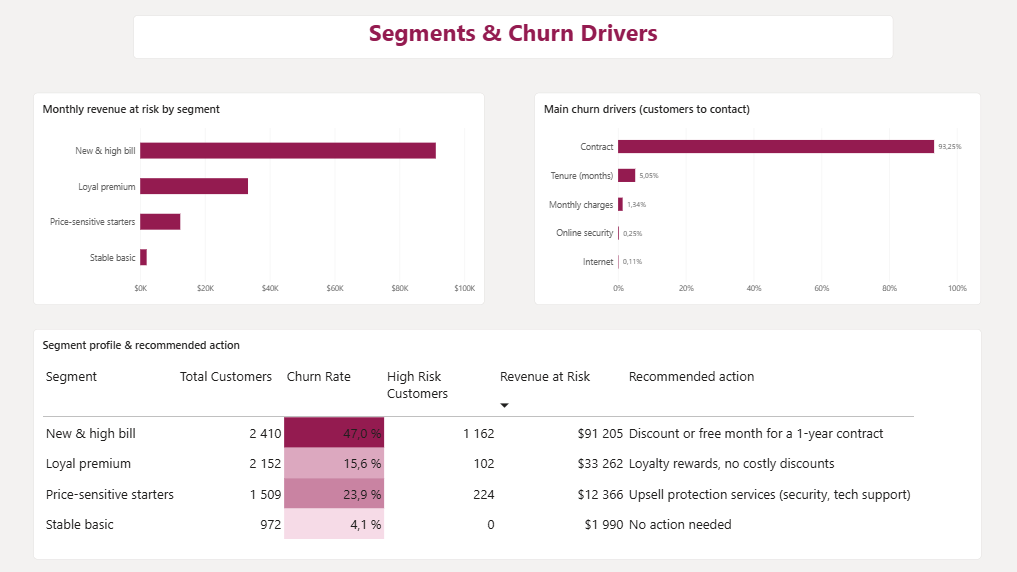

The page's visual inventory and layout, read from the dashboard file:
{"tool":"powerbi","page":{"name":"Segments & drivers","canvas":[1920,1080],"ordinal":1},"visuals":[{"type":"textbox","box":[259.8,40,1398.7,79.9],"z":0},{"type":"clusteredBarChart","title":"Monthly revenue at risk by segment","fields":{"Category":["Dim Segment.Segment"],"Y":["_Measures.Revenue at Risk"]},"box":[75.5,182.1,830.3,390.8],"z":1000},{"type":"tableEx","title":"Segment profile & recommended action","fields":{"Values":["Dim Segment.Segment","_Measures.Total Customers","_Measures.Churn Rate","_Measures.High Risk Customers","_Measures.Revenue at Risk","Dim Segment.RecommendedAction"]},"box":[75.5,617.2,1745.1,424.1],"z":2000},{"type":"clusteredBarChart","title":"Main churn drivers (customers to contact)","fields":{"Category":["Customers.RiskDriver"],"Y":["_Measures.Customers to Contact"]},"box":[999.1,182.1,821.5,390.8],"z":3000}]}

Visuals, with their boxes in screenshot pixels (x1, y1, x2, y2), scaled from the page's 1920x1080 canvas onto the 1017x572 screenshot:
textbox: (138, 21, 878, 64)
"Monthly revenue at risk by segment" clusteredBarChart: (40, 96, 480, 303)
"Segment profile & recommended action" tableEx: (40, 327, 964, 552)
"Main churn drivers (customers to contact)" clusteredBarChart: (529, 96, 964, 303)
